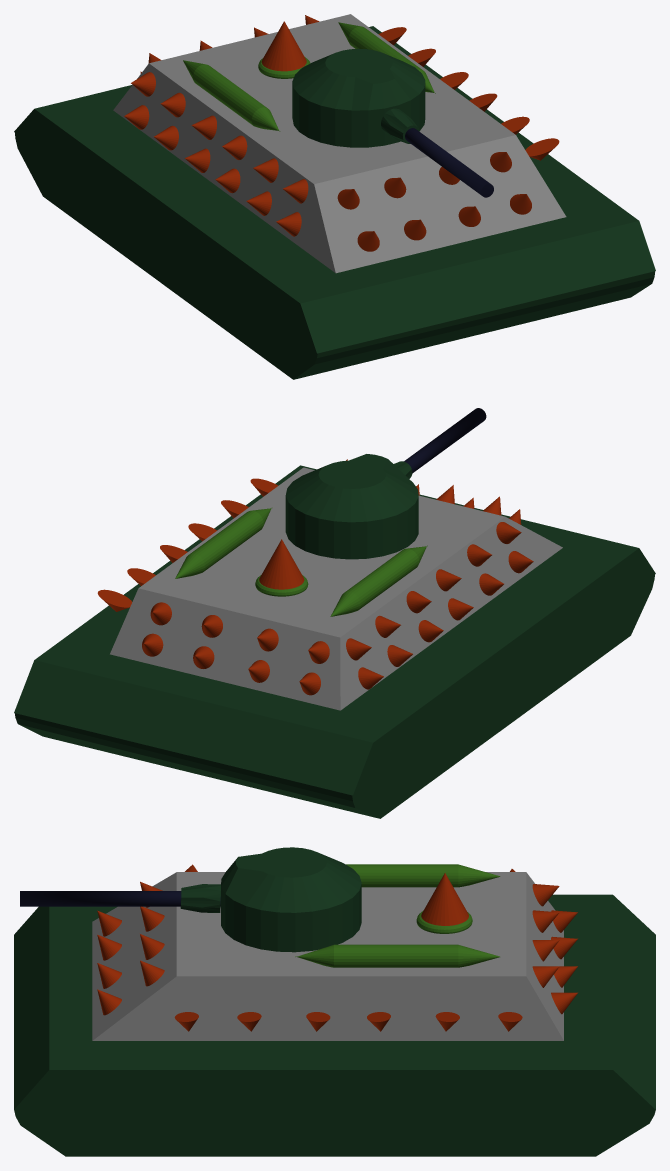
File: tank1.fbx
The picture shows the model from 3 angles, top to bottom: view 1: azimuth 30°, elevation 25°; view 2: azimuth 150°, elevation 25°; view 3: azimuth 270°, elevation 25°; orthographic projection. The views are drawn at different scales.
Visible parts, largest first — view 1: Cube.001, Cube.002, Cube.003, Turret, Cube.000, Cube.004, Cylinder.001, Cube.005, Canon, Cone, Cylinder.002; view 2: Cube.001, Cube.002, Cube.003, Turret, Cube.000, Cube.016, Cylinder.001, Cylinder.002, Cube.005, Canon, Cone, Cube.004; view 3: Cube.001, Cube.002, Cube.003, Turret, Cylinder.002, Cylinder.001, Cube.016, Cube.004, Canon, Cube.005, Cone, Torus.
Boxes of the visible parts, x1,y1,x2,y2 form: Cube.001: (14, 26, 655, 353); Cube.002: (113, 14, 566, 273); Cube.003: (14, 132, 655, 379); Turret: (292, 48, 425, 147); Cube.000: (124, 72, 308, 236); Cube.004: (337, 152, 531, 251); Cylinder.001: (183, 60, 280, 131); Cube.005: (378, 27, 559, 160); Canon: (405, 128, 493, 197); Cone: (261, 21, 306, 71); Cylinder.002: (338, 22, 435, 93); Cube.001: (14, 465, 655, 795); Cube.002: (110, 467, 562, 710); Cube.003: (14, 574, 654, 818); Turret: (285, 454, 418, 559); Cube.000: (346, 522, 533, 689); Cube.016: (142, 602, 329, 695); Cylinder.001: (330, 545, 427, 616); Cylinder.002: (175, 507, 272, 578); Cube.005: (97, 478, 278, 611); Canon: (404, 408, 486, 473); Cone: (259, 539, 304, 589); Cube.004: (346, 459, 521, 524); Cube.001: (14, 894, 655, 1109); Cube.002: (92, 872, 563, 1040); Cube.003: (14, 1110, 655, 1156); Turret: (180, 847, 361, 952); Cylinder.002: (295, 944, 499, 967); Cylinder.001: (346, 864, 500, 887); Cube.016: (532, 884, 577, 1014); Cube.004: (97, 881, 164, 1015); Canon: (20, 891, 220, 906); Cube.005: (174, 1012, 522, 1031); Cone: (421, 873, 468, 925); Torus: (416, 911, 472, 933).
Size of the model in its own units: 294 by 163 by 455.
